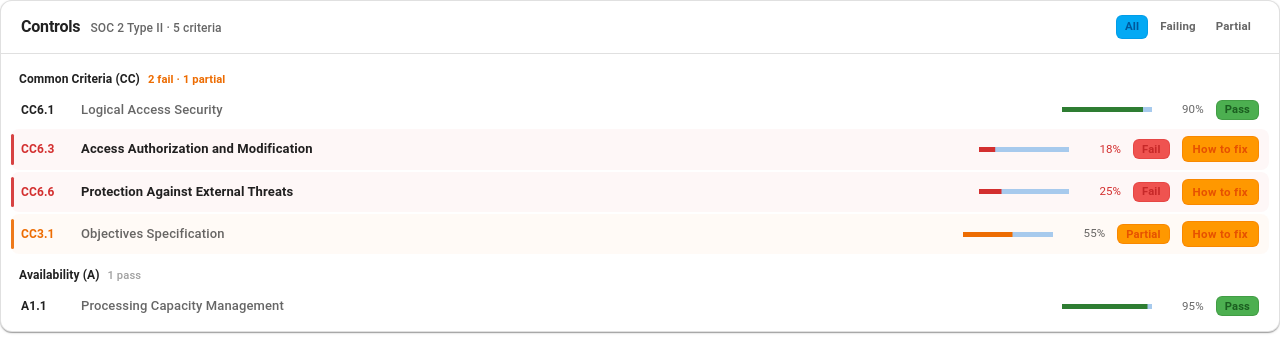
ControlHeatmap › filter chip Failing hides compliant controls
Click the button "Failing" at {"x": 1178, "y": 26}, box top-left (1160, 19), bottom-right (1196, 33)
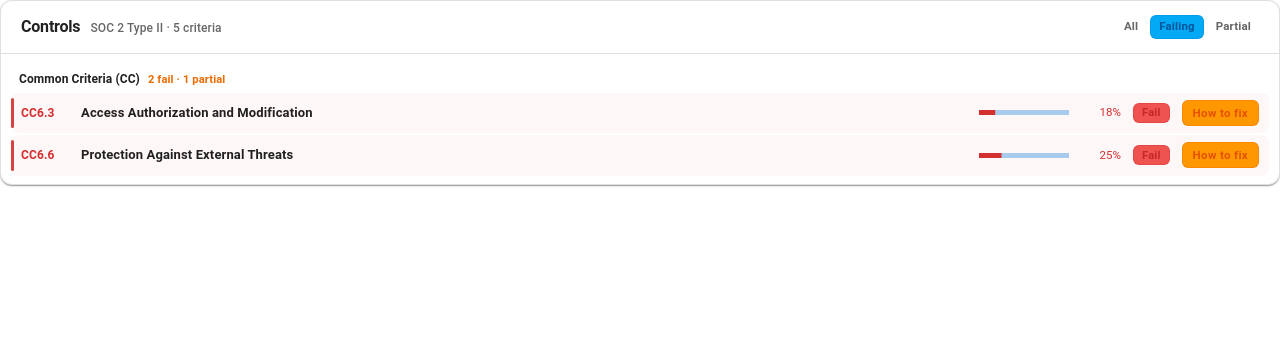
expect the text "CC6.3" is shown: met, box top-left (21, 106), bottom-right (54, 120)
expect the text "CC6.1" is gone: met
